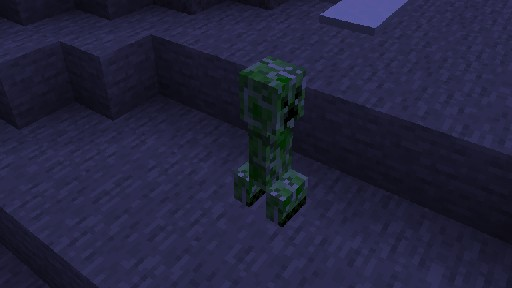creeper: (233, 54, 308, 227)
